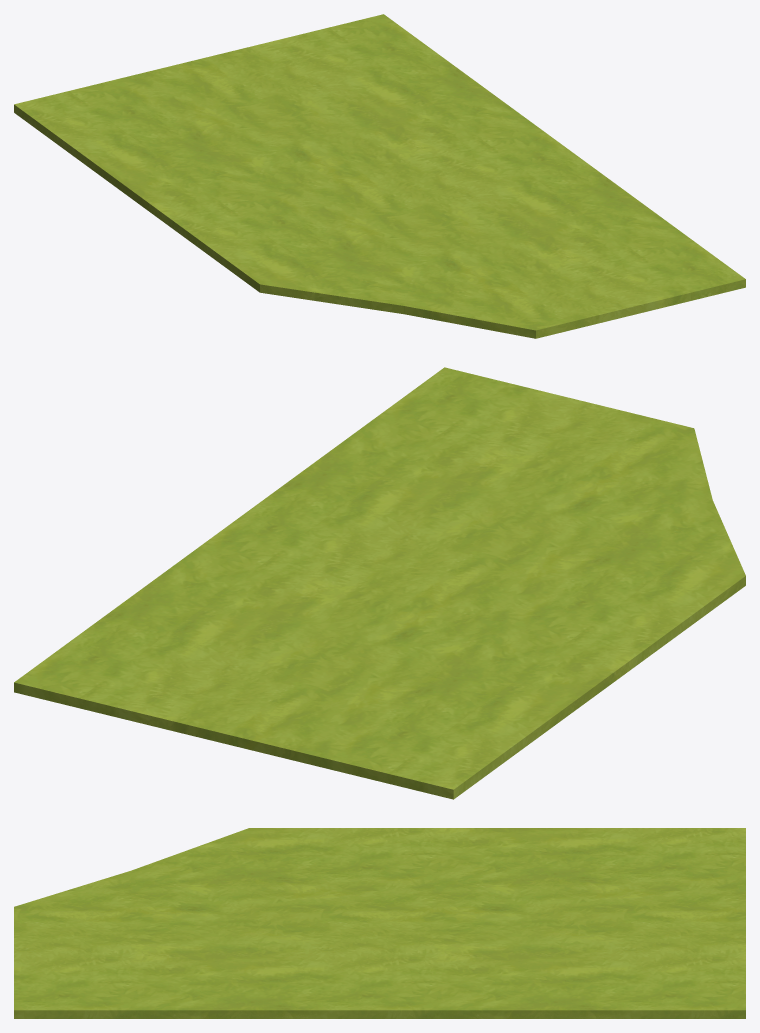
File: TempleTile_R.fbx
The picture shows the model from 3 angles, top to bottom: view 1: azimuth 30°, elevation 25°; view 2: azimuth 150°, elevation 25°; view 3: azimuth 270°, elevation 25°; orthographic projection. The views are drawn at different scales.
Parts seen in each view (by area): view 1: TempleTile_R; view 2: TempleTile_R; view 3: TempleTile_R.
Boxes of the visible parts, bbox=[...] form: TempleTile_R: bbox=[14, 14, 745, 338]; TempleTile_R: bbox=[14, 367, 745, 799]; TempleTile_R: bbox=[14, 828, 745, 1018].
Bounding box in the file's own units: 1421 × 30.55 × 2411.
